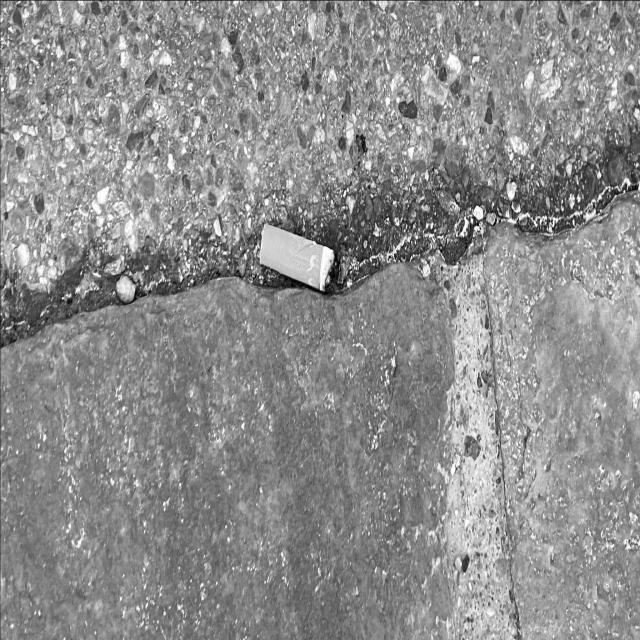other waste: (259, 220, 337, 293)
